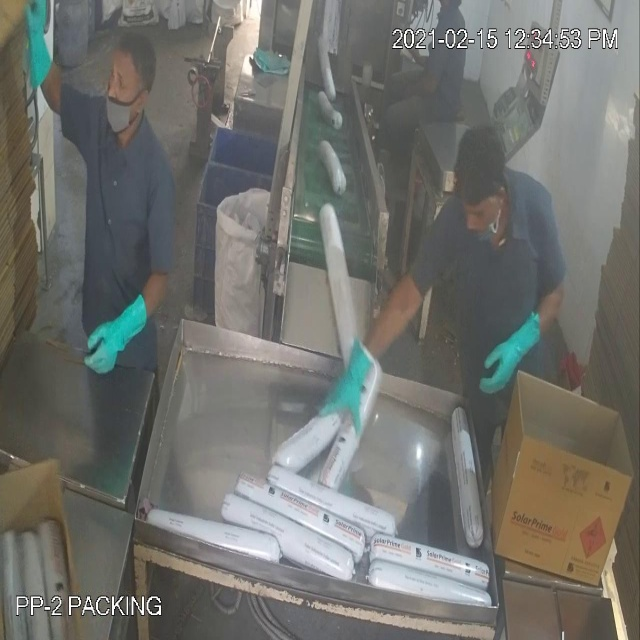Guantes: (306, 325, 382, 450), (74, 270, 152, 375), (479, 318, 544, 410), (21, 1, 65, 104)
